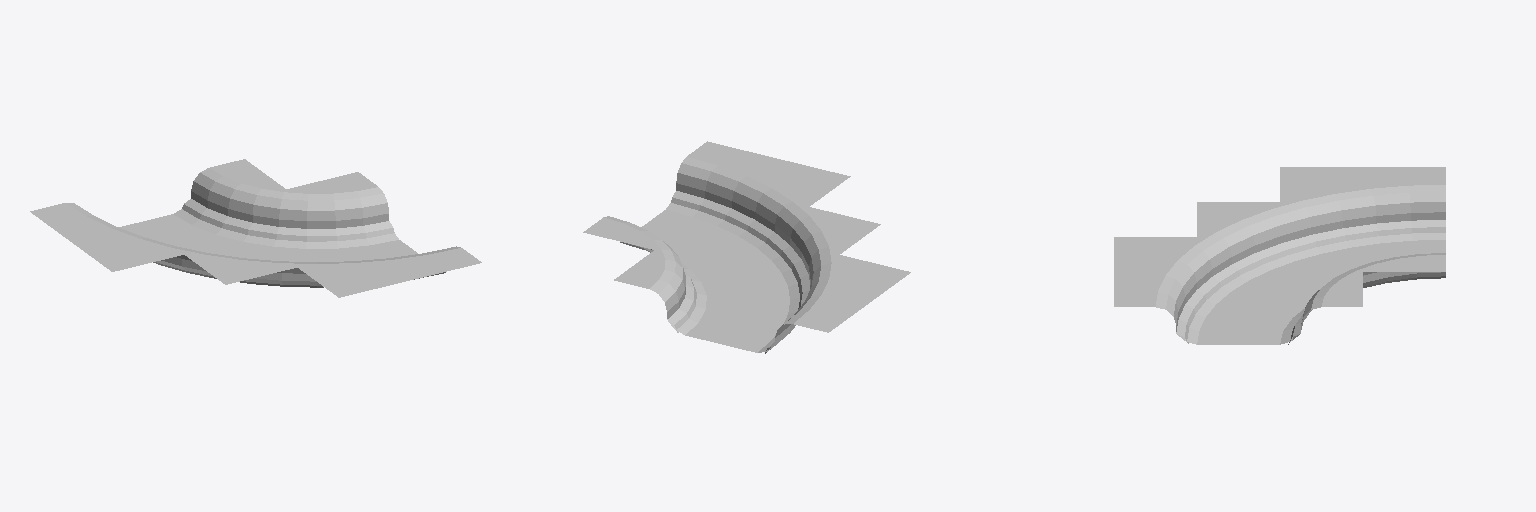
File: Track_Striped_Curve_Single_4x4.obj
The picture shows the model from 3 angles: view 1: azimuth 30°, elevation 25°; view 2: azimuth 150°, elevation 25°; view 3: azimuth 270°, elevation 25°; orthographic projection.
Parts seen in each view (by area): view 1: Grass, Dirt, Raceline_Color_1, Raceline_Color_2; view 2: Grass, Dirt, Raceline_Color_1, Raceline_Color_2; view 3: Grass, Dirt, Raceline_Color_2, Raceline_Color_1.
Boxes of the visible parts, box(x1,y1,x2,y2) form: Grass: box(30, 159, 481, 297); Dirt: box(119, 209, 417, 285); Raceline_Color_1: box(159, 208, 445, 287); Raceline_Color_2: box(153, 199, 414, 287); Grass: box(583, 141, 910, 345); Dirt: box(631, 203, 799, 352); Raceline_Color_1: box(620, 191, 809, 317); Raceline_Color_2: box(645, 199, 809, 353); Grass: box(1114, 167, 1445, 331); Dirt: box(1177, 233, 1445, 344); Raceline_Color_2: box(1179, 220, 1445, 326); Raceline_Color_1: box(1176, 221, 1414, 344).
Bounding box in the file's own units: 4 × 0.5 × 4.